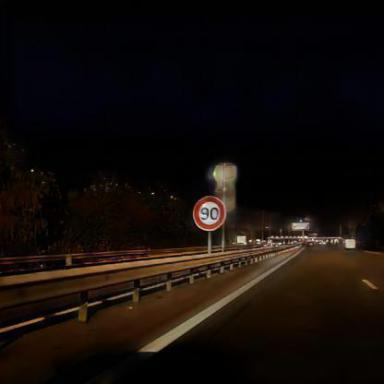Speed_limit_90: (194, 198, 225, 230)
